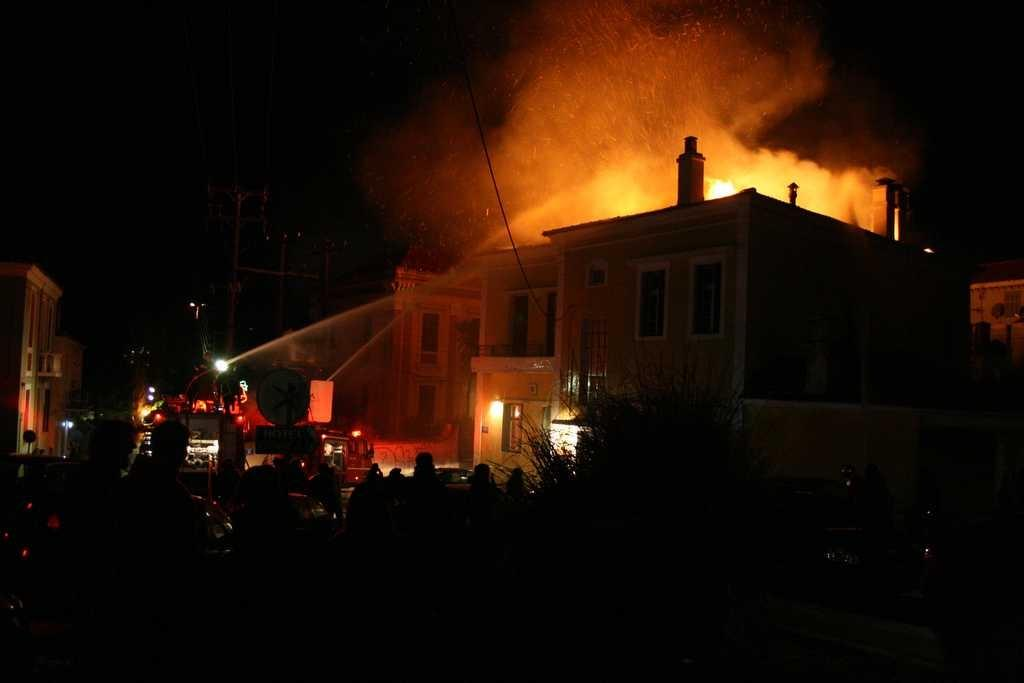fire: (706, 158, 870, 217)
smoke: (474, 60, 660, 215)
